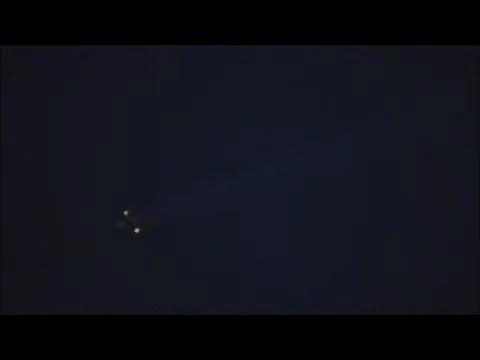Plane: (91, 197, 167, 244)
